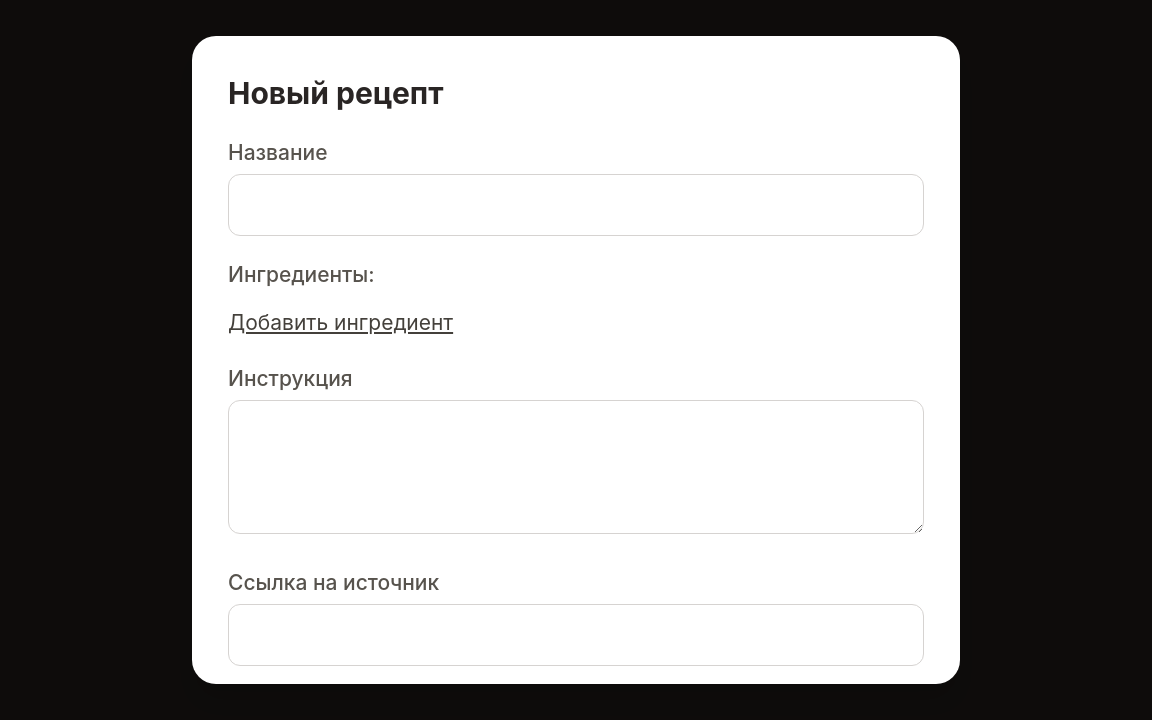
Test: RecipeForm › shows an error and does not POST when there are no ingredients
Type "Тест" into the field labelled "Название" at (576, 205), box [228,174,924,236]
(page scrolled)
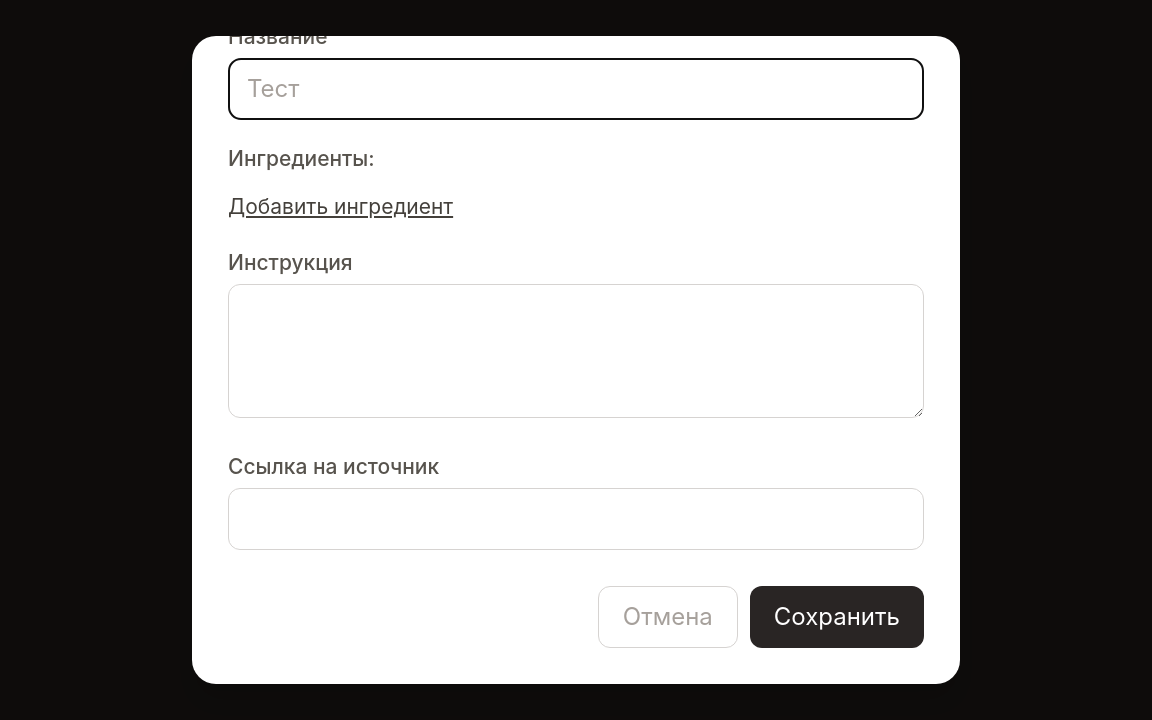
// deliberately do NOT add any ingredient
Click the button "Сохранить" at (837, 617), box [750,586,924,648]
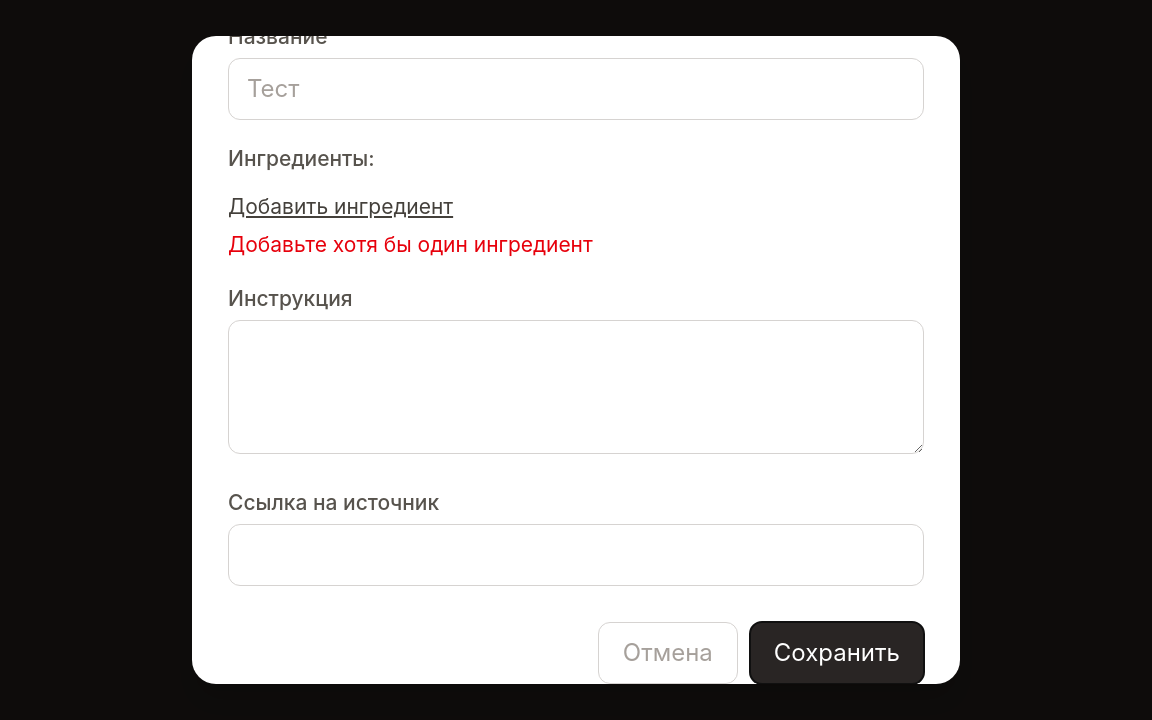
Now the text "Добавьте хотя бы один ингредиент" is shown, box [228,232,593,257]
